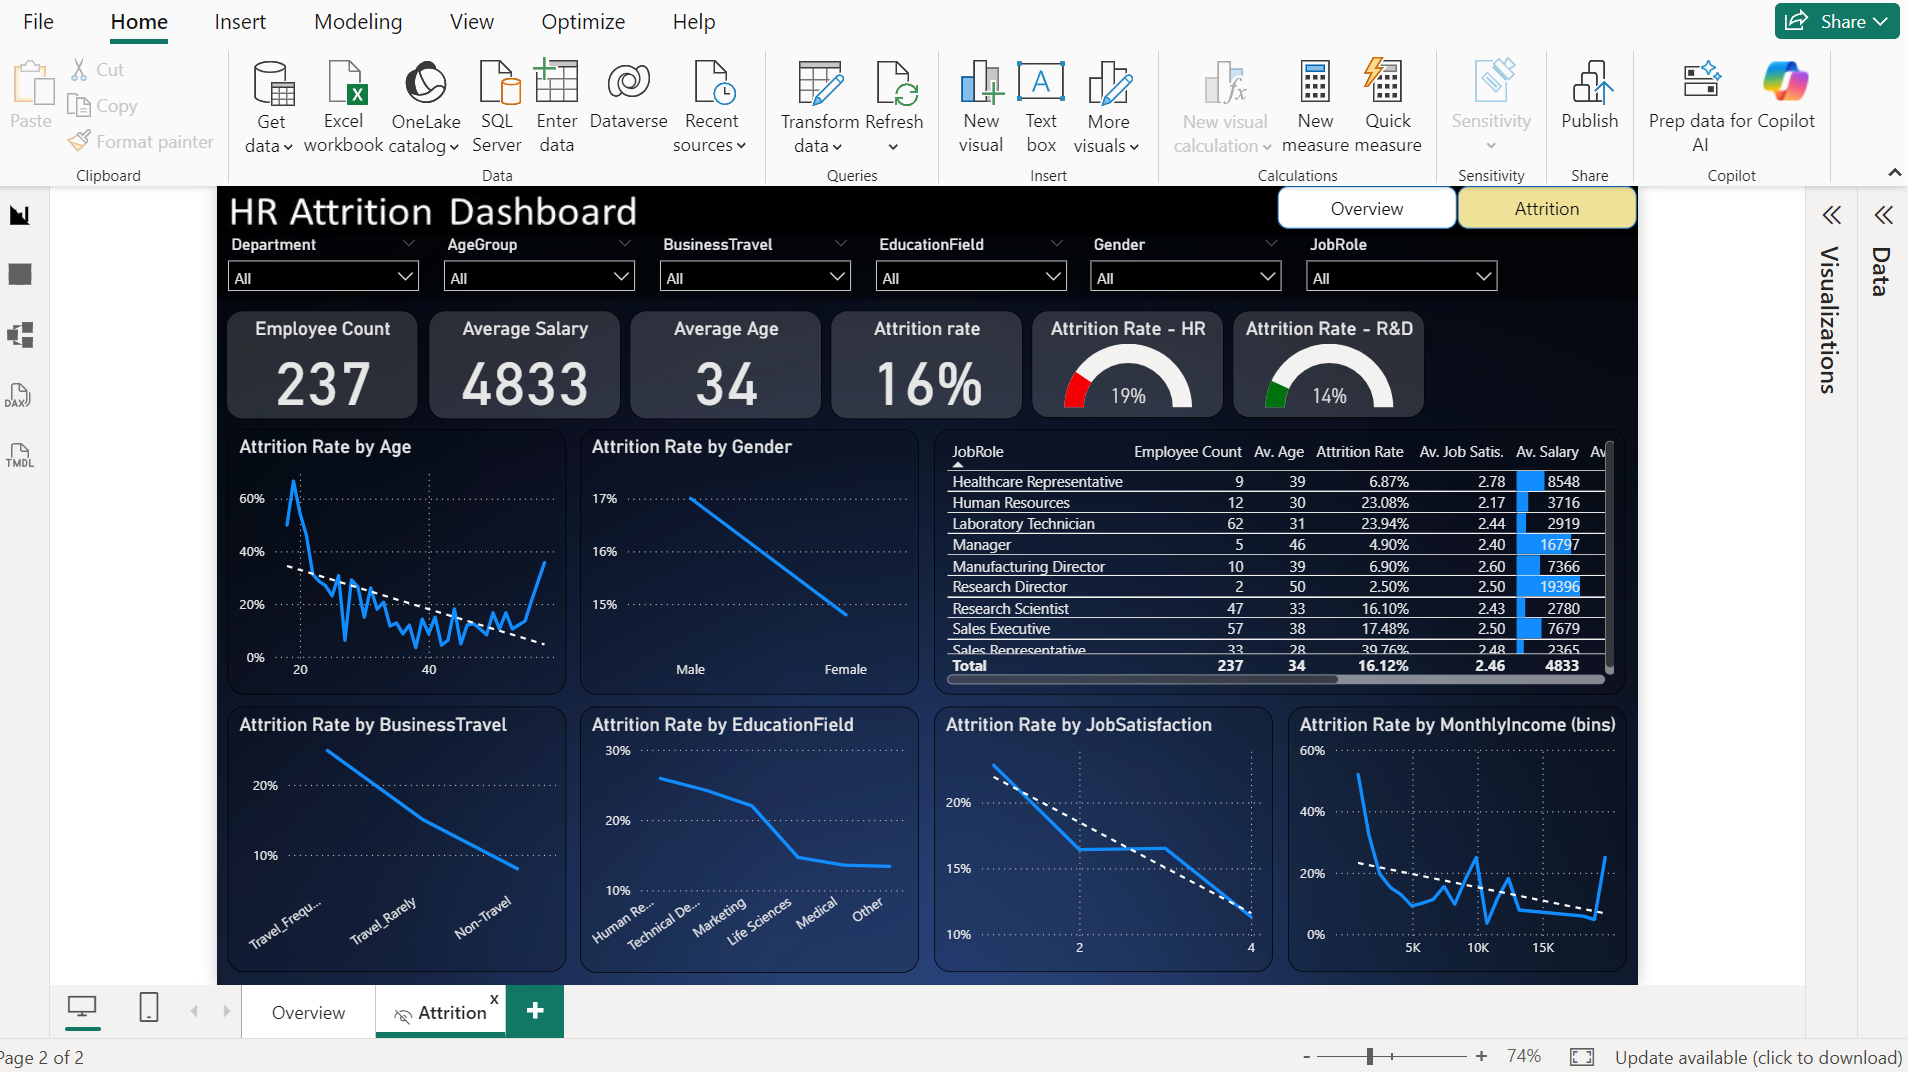

This screenshot's page, from the dashboard's own definition file:
{"tool":"powerbi","page":{"name":"Attrition","canvas":[1280,720],"ordinal":1},"visuals":[{"type":"slicer","fields":{"Values":["HR_Analytics.Department"]},"box":[0,39,192,60.7],"z":0},{"type":"card","title":"Employee Count","fields":{"Values":["HR_Analytics.Employee Count"]},"box":[8.7,112.7,173.4,98.2],"z":1000},{"type":"slicer","fields":{"Values":["HR_Analytics.AgeGroup"]},"box":[194.3,39,192.1,60.7],"z":2000},{"type":"slicer","fields":{"Values":["HR_Analytics.BusinessTravel"]},"box":[388.8,39,192.1,60.7],"z":3000},{"type":"slicer","fields":{"Values":["HR_Analytics.EducationField"]},"box":[583.3,39,192.1,60.7],"z":4000},{"type":"slicer","fields":{"Values":["HR_Analytics.Gender"]},"box":[777.8,39,192.1,60.7],"z":5000},{"type":"slicer","fields":{"Values":["HR_Analytics.JobRole"]},"box":[972.3,39,192.1,60.7],"z":6000},{"type":"card","title":"Average Age","fields":{"Values":["HR_Analytics.Average Age"]},"box":[371.8,112.7,173.4,98.2],"z":7000},{"type":"card","title":"Average Salary","fields":{"Values":["HR_Analytics.Average Salary"]},"box":[190.2,112.7,173.4,98.2],"z":8000},{"type":"card","title":"Attrition rate","fields":{"Values":["HR_Analytics.Attrition Rate "]},"box":[553.3,112.7,173.4,98.2],"z":9000},{"type":"tableEx","fields":{"Values":["HR_Analytics.JobRole","HR_Analytics.Employee Count","HR_Analytics.Average Age","HR_Analytics.Attrition Rate ","HR_Analytics.Average Job Satisfaction","HR_Analytics.Average Salary","HR_Analytics.Average Salary Hike","HR_Analytics.Gender Ratio","HR_Analytics.OverTime %","HR_Analytics.Average Years","HR_Analytics.Attrition Count"]},"box":[646.7,218.6,623.1,239.6],"z":10000},{"type":"gauge","title":"Attrition Rate - HR","fields":{"Y":["HR_Analytics.Attrition Rate "]},"box":[733.9,112.7,173,96.8],"z":11000},{"type":"gauge","title":"Attrition Rate - R&D","fields":{"Y":["HR_Analytics.Attrition Rate "]},"box":[915,112.6,173.2,96.9],"z":12000},{"type":"lineChart","fields":{"Y":["HR_Analytics.Attrition Rate "],"Category":["HR_Analytics.Age"]},"box":[9.2,218.6,305,239.6],"z":14000},{"type":"lineChart","fields":{"Y":["HR_Analytics.Attrition Rate "],"Category":["HR_Analytics.BusinessTravel"]},"box":[9.2,468.7,305,239.6],"z":15000},{"type":"lineChart","fields":{"Y":["HR_Analytics.Attrition Rate "],"Category":["HR_Analytics.EducationField"]},"box":[327.7,468.7,305,240],"z":16000},{"type":"lineChart","fields":{"Y":["HR_Analytics.Attrition Rate "],"Category":["HR_Analytics.Gender"]},"box":[327.3,218.6,305,239.6],"z":17000},{"type":"lineChart","fields":{"Y":["HR_Analytics.Attrition Rate "],"Category":["HR_Analytics.JobSatisfaction"]},"box":[646.2,468.7,305,239.6],"z":18000},{"type":"lineChart","fields":{"Y":["HR_Analytics.Attrition Rate "],"Category":["HR_Analytics.MonthlyIncome (bins)"]},"box":[964.8,468.7,305,239.6],"z":19000},{"type":"shape","box":[955.5,0,161.7,38.6],"z":20000},{"type":"shape","box":[1118.4,0,161.7,38.6],"z":21000}]}

Visuals, with their boxes on the page's 1280x720 design canvas (x1, y1, x2, y2). These are canvas units, not pixel positions in the 1908x1072 screenshot, which may show the page scaled, cropped or inside an application window:
slicer - HR_Analytics.Department: 0/39/192/100
"Employee Count" card: 9/113/182/211
slicer - HR_Analytics.AgeGroup: 194/39/386/100
slicer - HR_Analytics.BusinessTravel: 389/39/581/100
slicer - HR_Analytics.EducationField: 583/39/775/100
slicer - HR_Analytics.Gender: 778/39/970/100
slicer - HR_Analytics.JobRole: 972/39/1164/100
"Average Age" card: 372/113/545/211
"Average Salary" card: 190/113/364/211
"Attrition rate" card: 553/113/727/211
tableEx - HR_Analytics.JobRole x HR_Analytics.Employee Count: 647/219/1270/458
"Attrition Rate - HR" gauge: 734/113/907/210
"Attrition Rate - R&D" gauge: 915/113/1088/210
lineChart - HR_Analytics.Attrition Rate  x HR_Analytics.Age: 9/219/314/458
lineChart - HR_Analytics.Attrition Rate  x HR_Analytics.BusinessTravel: 9/469/314/708
lineChart - HR_Analytics.Attrition Rate  x HR_Analytics.EducationField: 328/469/633/709
lineChart - HR_Analytics.Attrition Rate  x HR_Analytics.Gender: 327/219/632/458
lineChart - HR_Analytics.Attrition Rate  x HR_Analytics.JobSatisfaction: 646/469/951/708
lineChart - HR_Analytics.Attrition Rate  x HR_Analytics.MonthlyIncome (bins): 965/469/1270/708
shape: 956/0/1117/39
shape: 1118/0/1280/39
